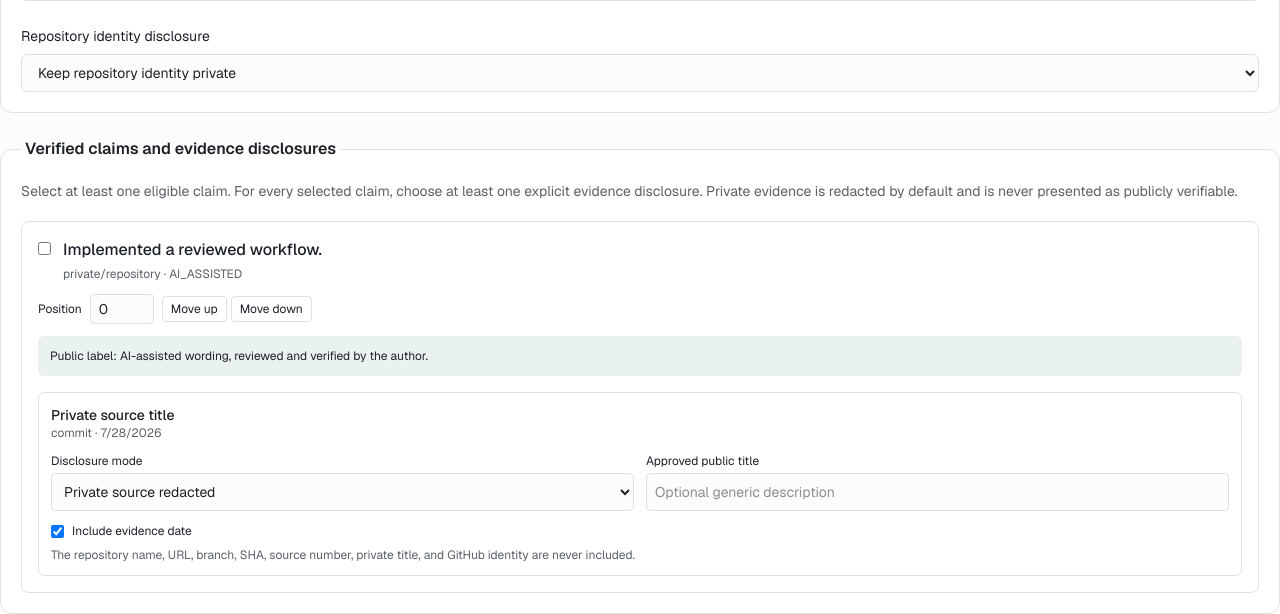
Test: PublicationEditor › provides keyboard-operable move controls
The width and height of the screenshot is (1280, 614).
(page scrolled)
Check: the number field labelled "Position" holds "0", box [90, 294, 154, 324]
Click the button with aria-label "Move claim down" at (271, 309), box [231, 296, 312, 322]
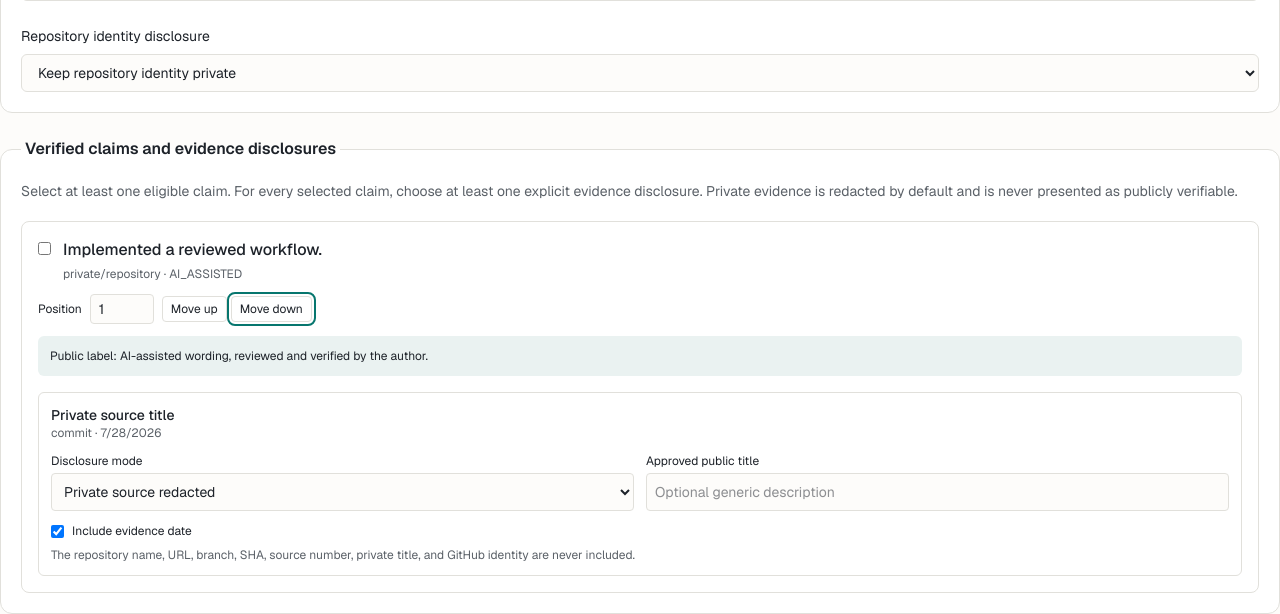
Check: the number field labelled "Position" holds "1", box [90, 294, 154, 324]
Click the button with aria-label "Move claim up" at (194, 309), box [162, 296, 227, 322]
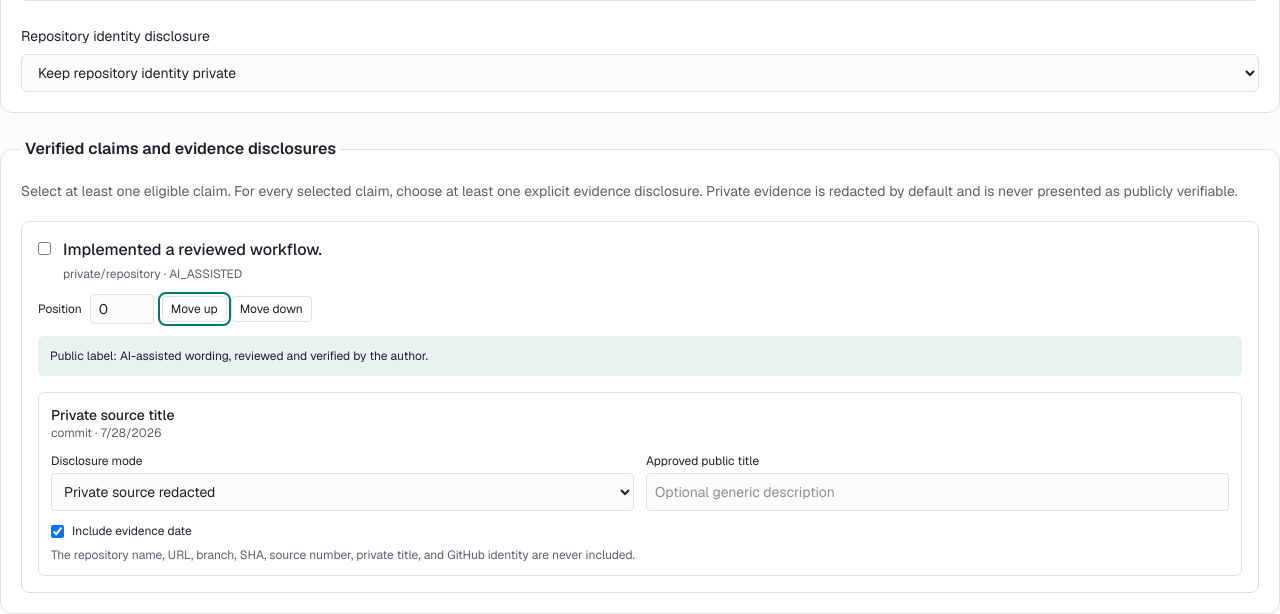
Check: the number field labelled "Position" holds "0", box [90, 294, 154, 324]
